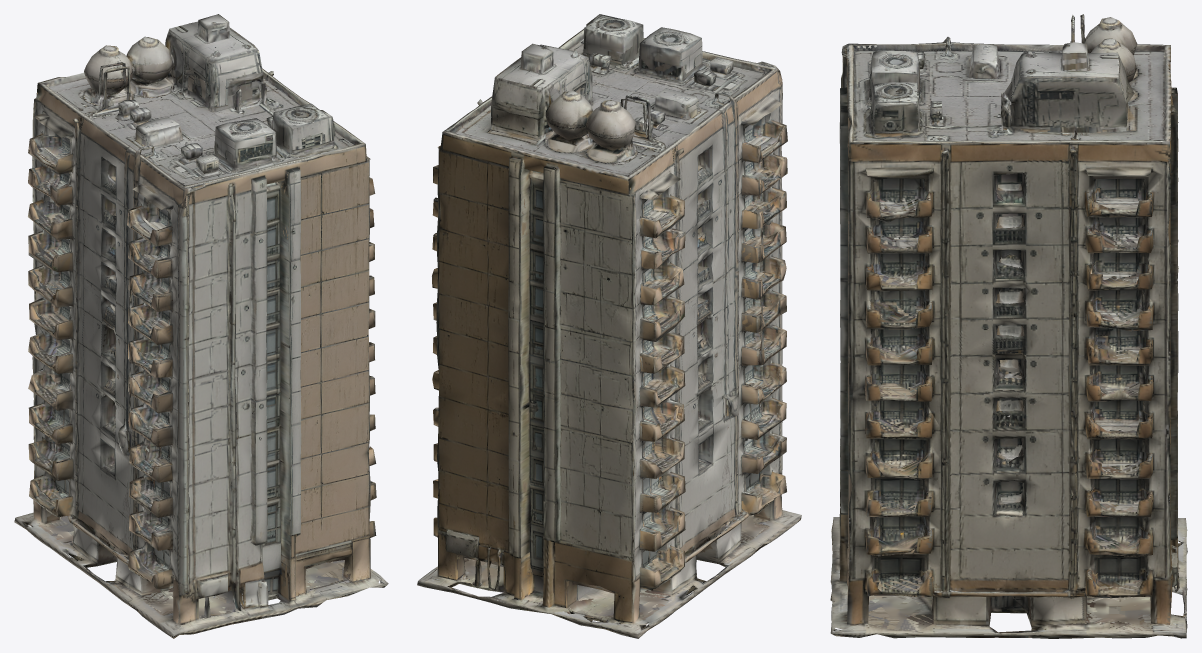
File: ColonyApartment.fbx
3 renders of one model, left to right at view 1: azimuth 30°, elevation 25°; view 2: azimuth 150°, elevation 25°; view 3: azimuth 270°, elevation 25°, orthographic. The views are drawn at different scales.
Parts seen in each view (by area): view 1: texture_mapping; view 2: texture_mapping; view 3: texture_mapping.
Boxes of the visible parts, x1,y1,x2,y2 form: texture_mapping: (14, 14, 388, 638); texture_mapping: (417, 14, 801, 638); texture_mapping: (830, 14, 1187, 638).
Size of the model in its own units: 0.4426 by 0.5588 by 0.9611.
1 material, 1 textured.
